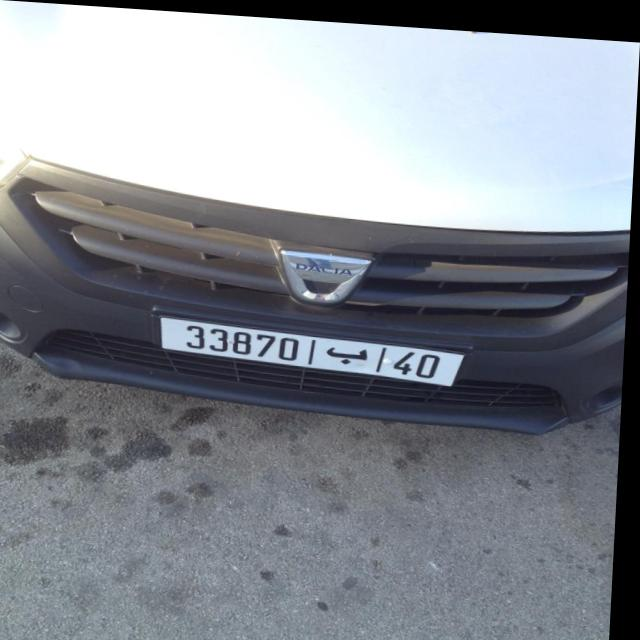License-Plate: (164, 315, 468, 379)
